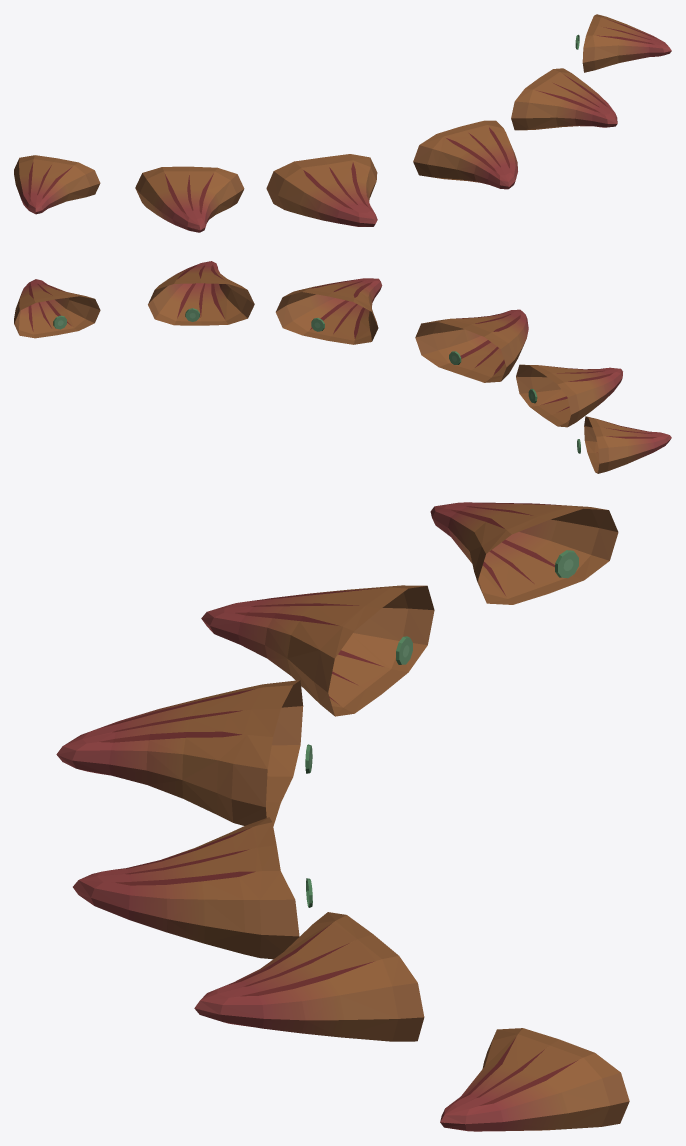
File: smallCrossbowChineseDragonSimpleTip.glb
The picture shows the model from 3 angles, top to bottom: view 1: azimuth 30°, elevation 25°; view 2: azimuth 150°, elevation 25°; view 3: azimuth 270°, elevation 25°; orthographic projection. The views are drawn at different scales.
Parts seen in each view (by area): view 1: smallCrossbowChineseDragonSimpleTip; view 2: smallCrossbowChineseDragonSimpleTip; view 3: smallCrossbowChineseDragonSimpleTip.
Boxes of the visible parts, bbox=[...] form: smallCrossbowChineseDragonSimpleTip: bbox=[14, 14, 671, 232]; smallCrossbowChineseDragonSimpleTip: bbox=[14, 261, 671, 473]; smallCrossbowChineseDragonSimpleTip: bbox=[56, 502, 629, 1131].
Bounding box in the file's own units: 0.3618 × 0.0276 × 0.1411.
